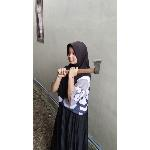Kapak: (56, 57, 107, 79)
